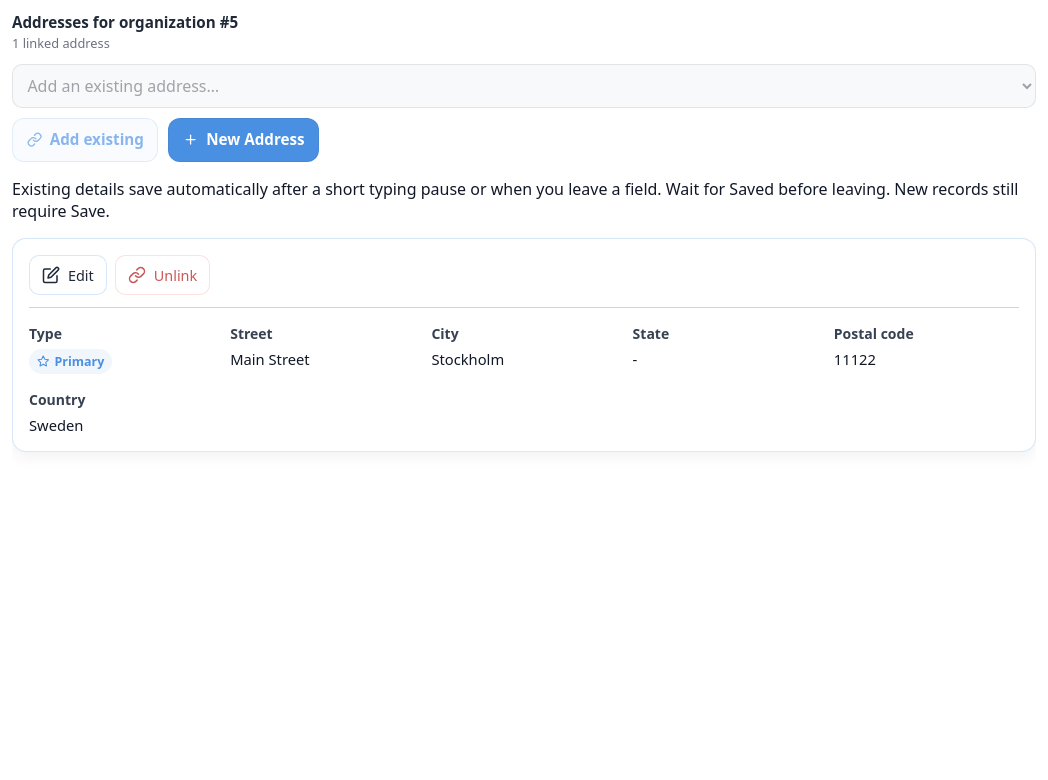
Test: existing address autosaves after typing without changing other saved fields
Click the button with aria-label "Edit address 10" at (68, 275), box [29,255,107,295]
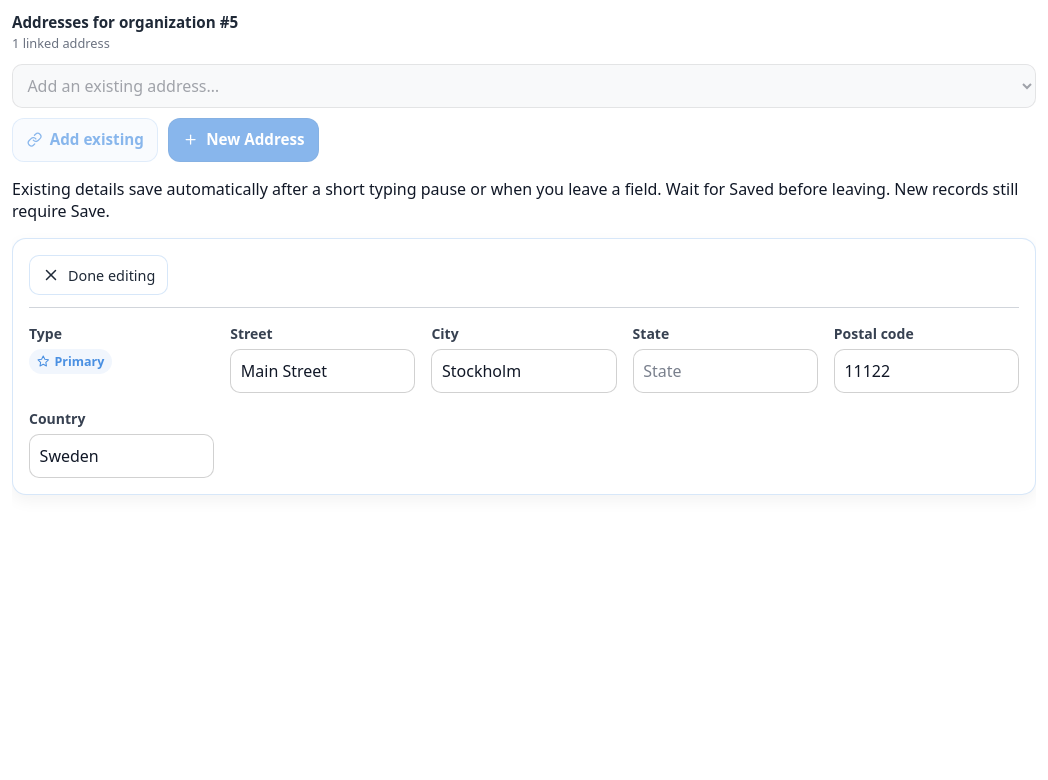
Replace the text in the field with placeholder "Street" below "Street" with "Updated street" at (323, 371), box [230,349,415,393]
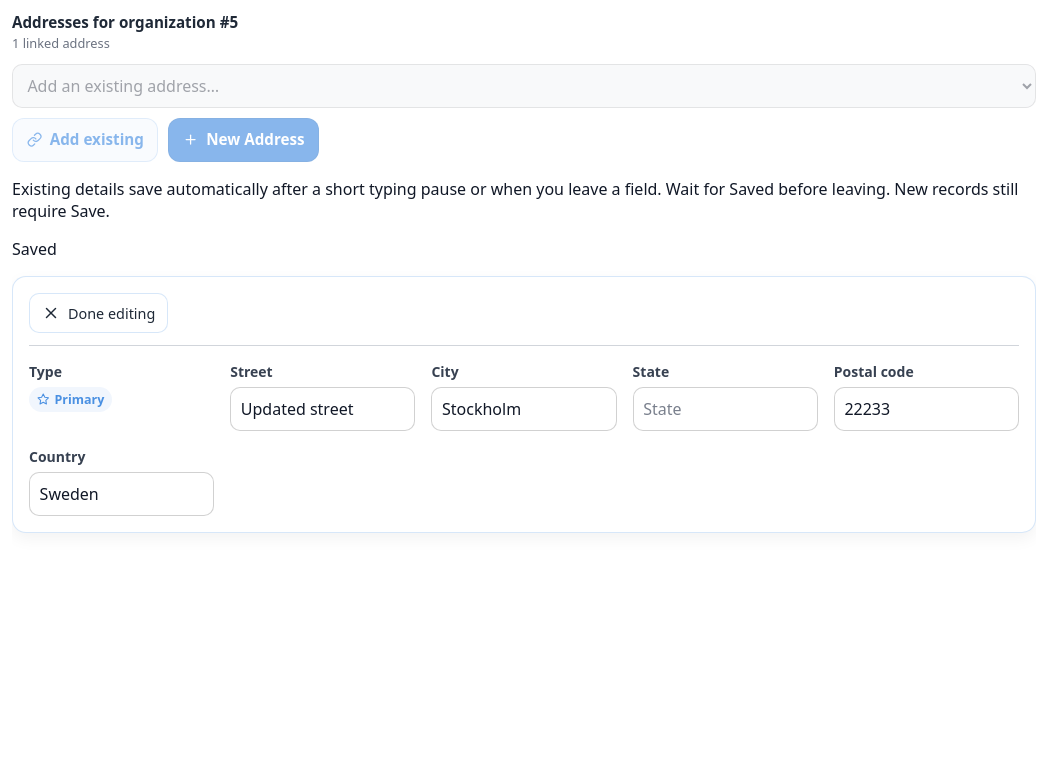
Result: the text "Saved" is shown at [12,238,57,260]
Result: the field with placeholder "Postal code" below "Postal code" holds "22233" at [834,387,1019,431]
